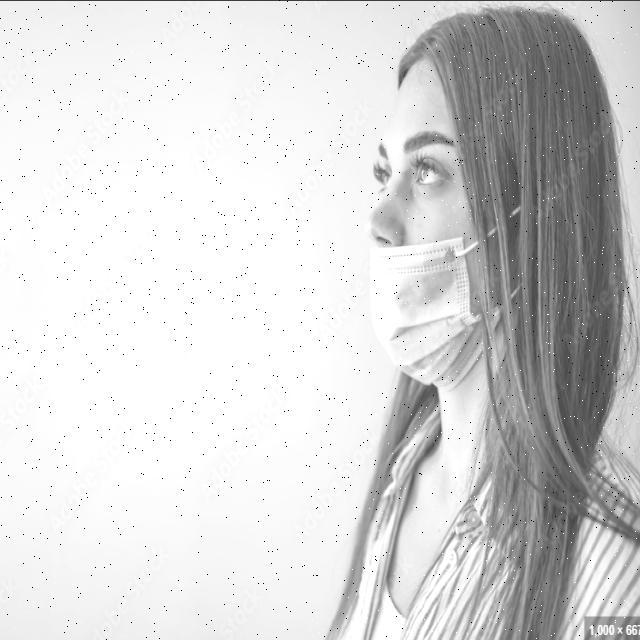face_half_mask: (358, 43, 504, 386)
